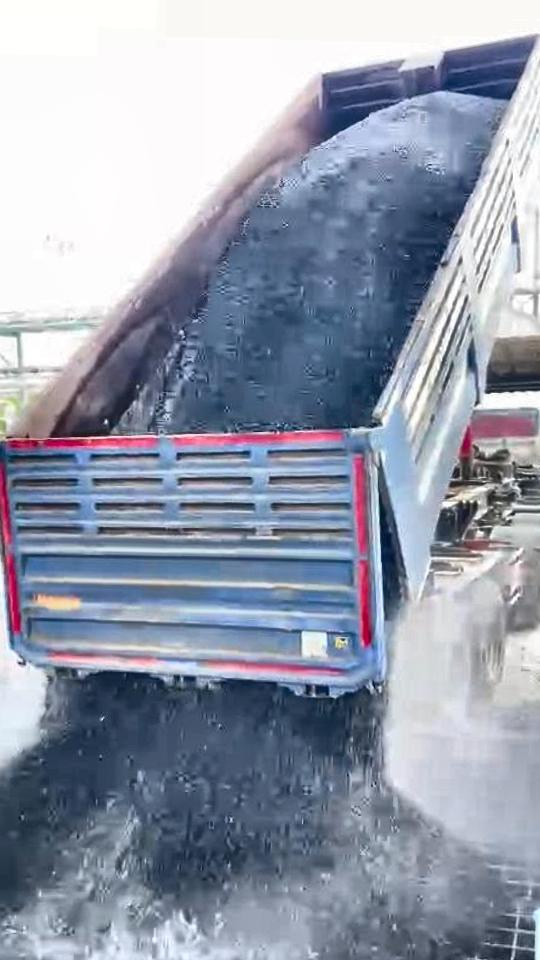gravel: (0, 675, 507, 960), (124, 92, 505, 432)
